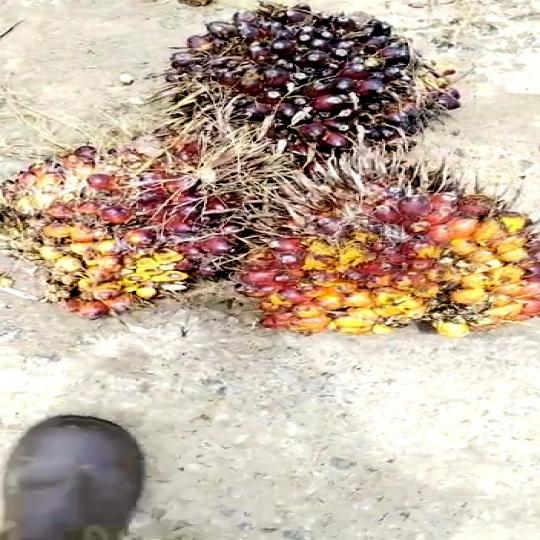masak: (213, 160, 540, 352), (117, 4, 464, 169), (1, 134, 274, 314)
